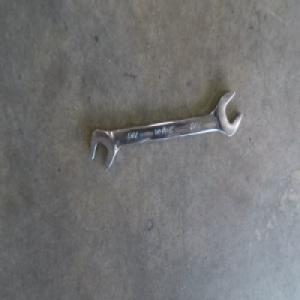Wrench: (90, 88, 242, 169)
